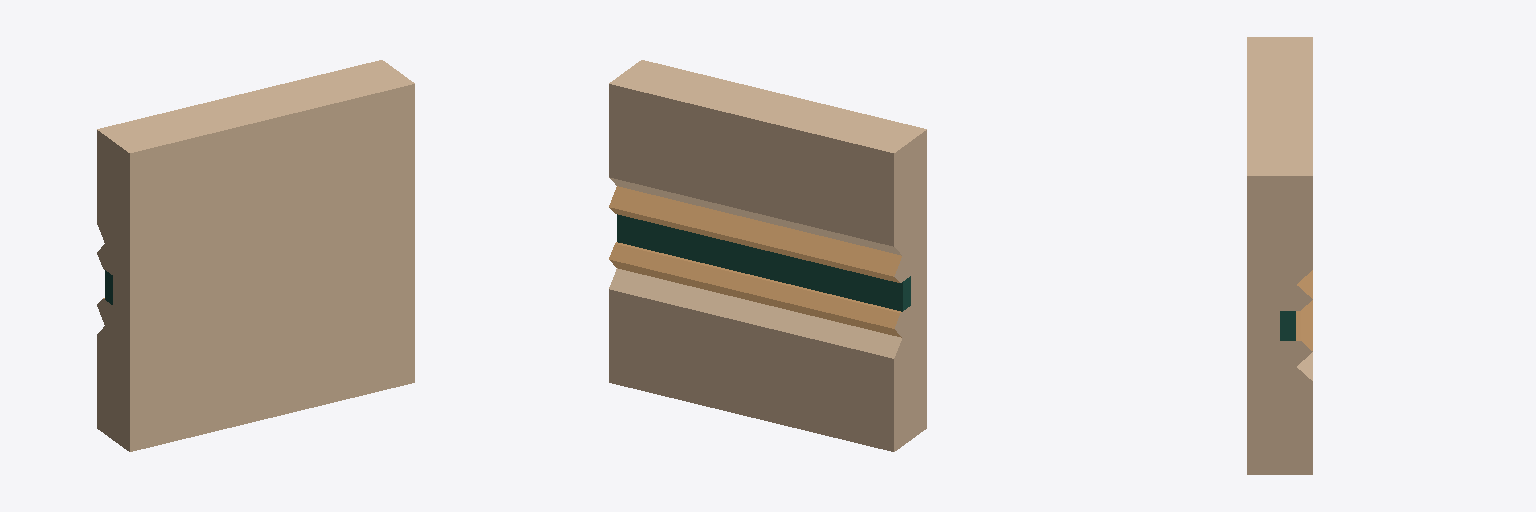
The model's file is Puzzle_Wall_Conduit_Path_Straight.obj.
3 renders of one model, left to right at view 1: azimuth 30°, elevation 25°; view 2: azimuth 150°, elevation 25°; view 3: azimuth 270°, elevation 25°, orthographic.
Visible parts, largest first — view 1: object2; view 2: object2, object1; view 3: object2.
Boxes of the visible parts, box(x1,y1,x2,y2) form: object2: box(97, 60, 414, 451); object2: box(609, 60, 926, 451); object1: box(617, 214, 910, 311); object2: box(1247, 37, 1312, 474).
Bounding box in the file's own units: 1 × 1 × 0.2.